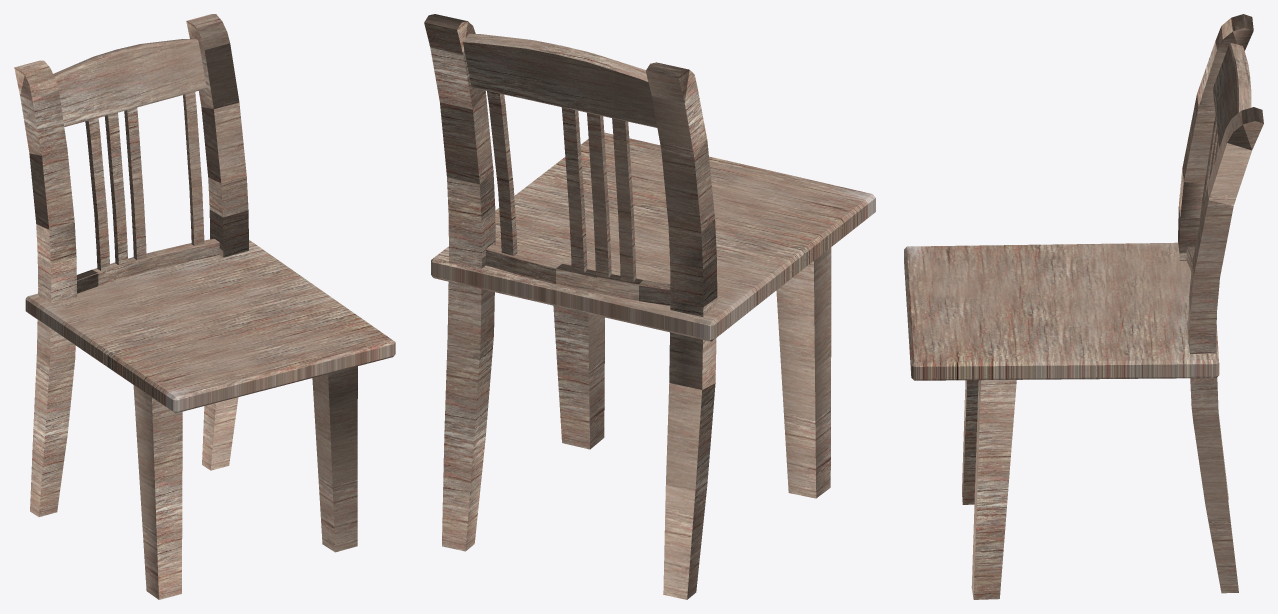
Rendered from chair.FBX.
The picture shows the model from 3 angles, left to right: view 1: azimuth 30°, elevation 25°; view 2: azimuth 150°, elevation 25°; view 3: azimuth 270°, elevation 25°; orthographic projection. The views are drawn at different scales.
Parts seen in each view (by area): view 1: krzeslo, Box015; view 2: krzeslo, Box015; view 3: Box015, krzeslo.
Part boxes in pixels (bbox=[...]): krzeslo: bbox=[14, 14, 357, 599]; Box015: bbox=[25, 240, 395, 413]; krzeslo: bbox=[424, 14, 831, 599]; Box015: bbox=[431, 132, 875, 341]; Box015: bbox=[904, 242, 1219, 380]; krzeslo: bbox=[962, 14, 1263, 599].
Size of the model in its own units: 3.65 by 6.57 by 4.52.
1 material, 1 textured.
